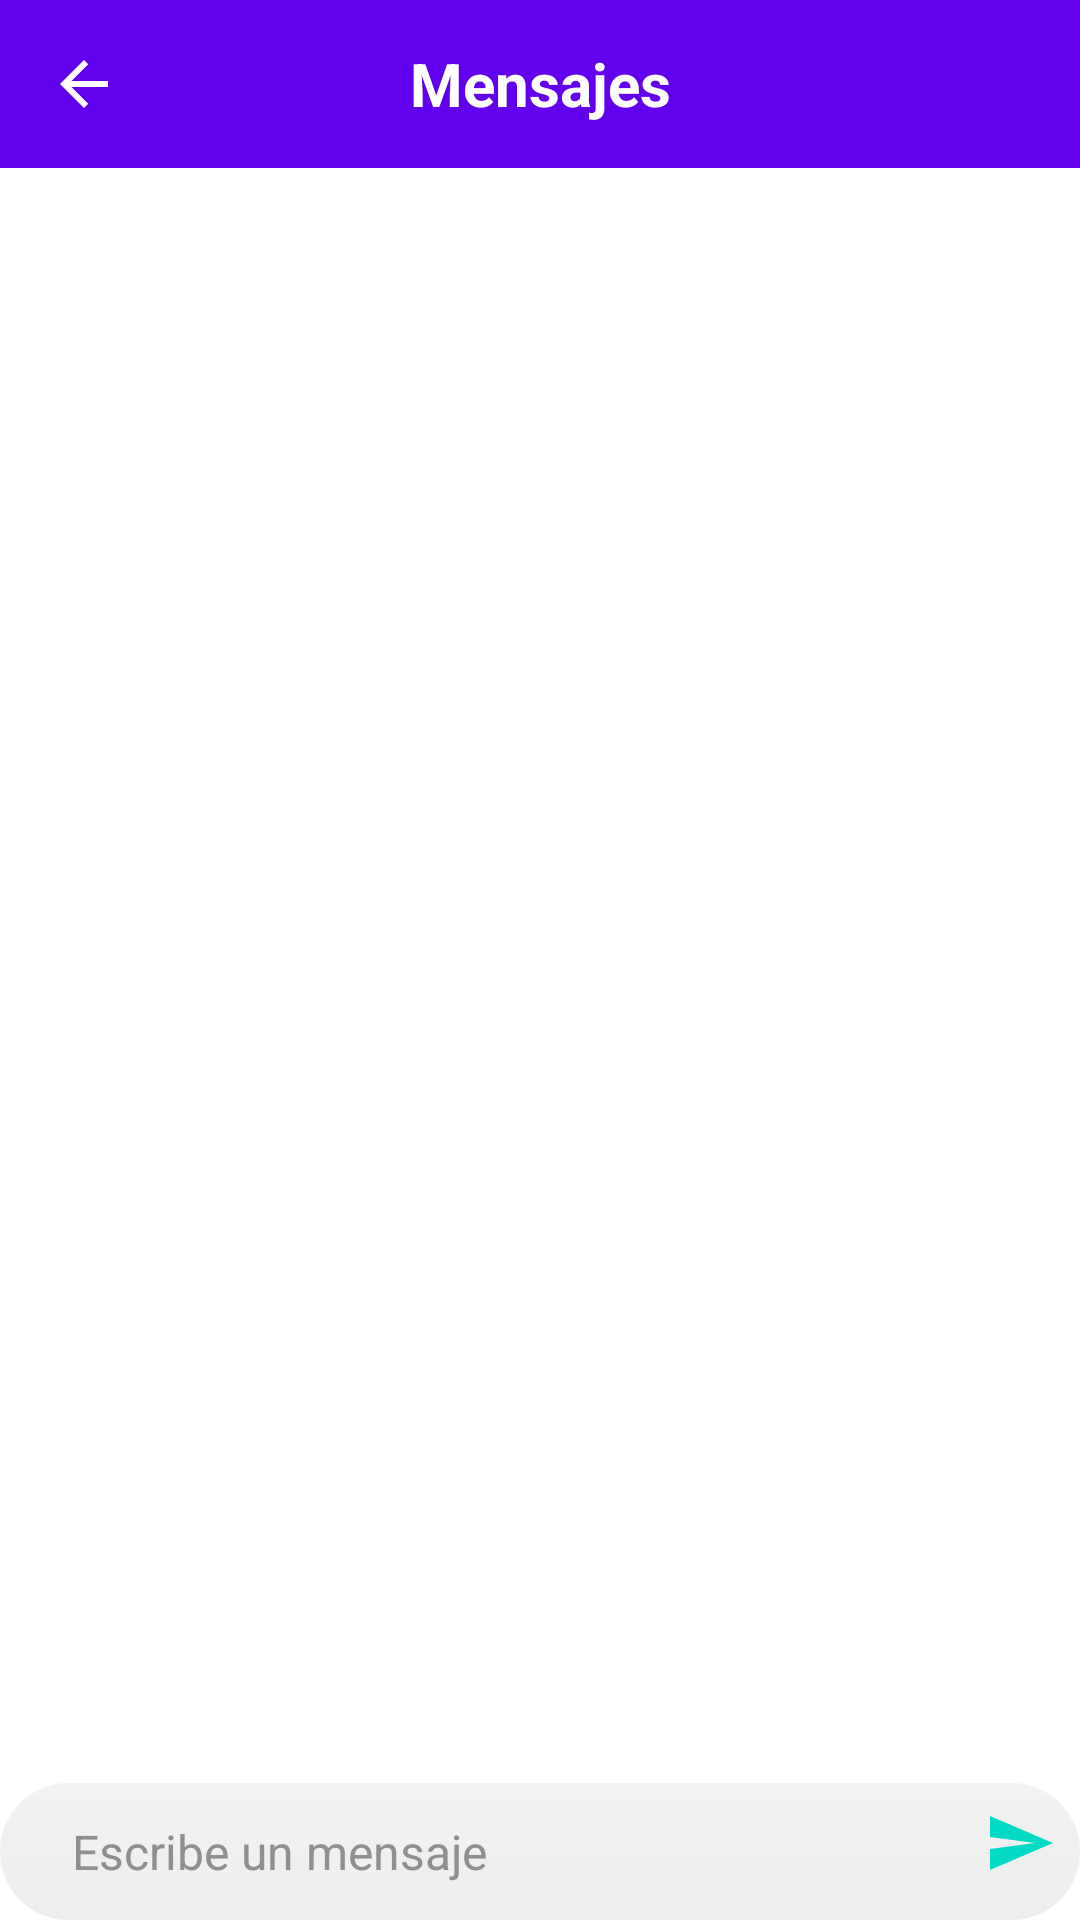

Icon click points for this 1080w x 1920h phone screenshot, format (x,y):
back: (84,84)
Enviar: (1021,1843)
